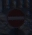No entry: (5, 6, 27, 30)
